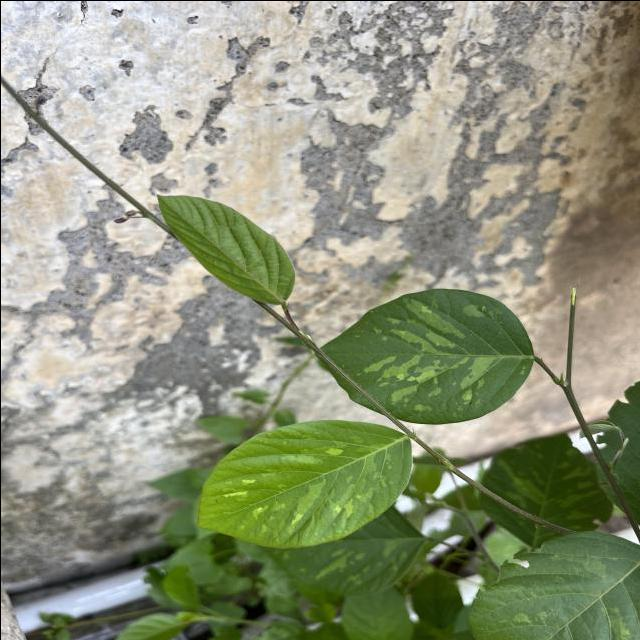Desmodium gangeticum: (311, 284, 540, 426), (193, 416, 414, 548)
